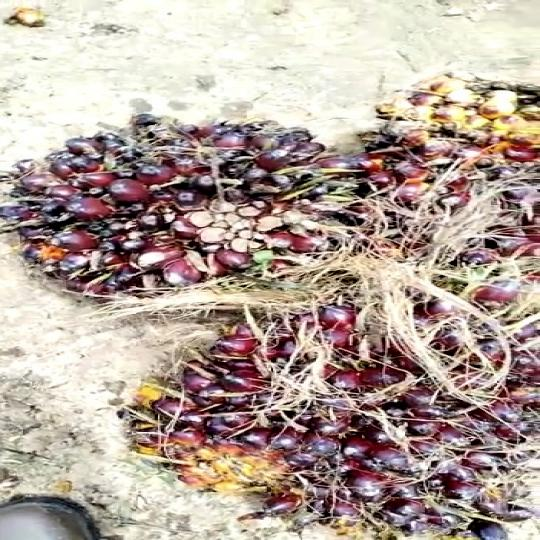kurang masak: (113, 277, 540, 532), (0, 100, 402, 306), (354, 56, 540, 284)
